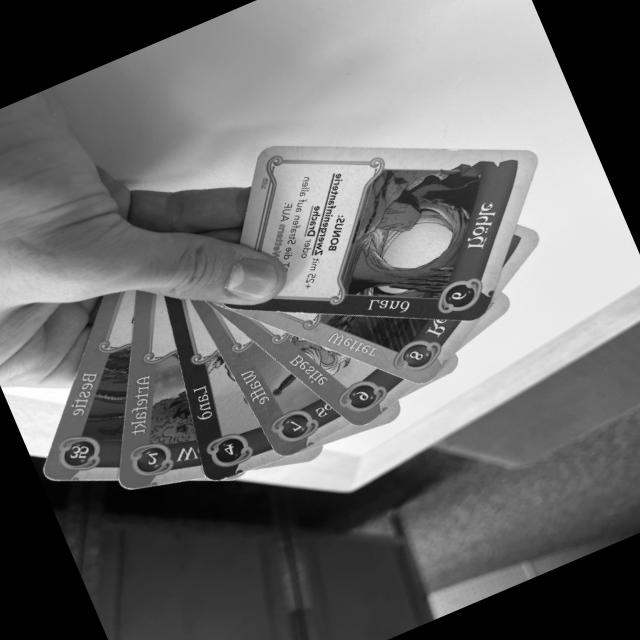Basilisk: (41, 288, 136, 480)
Earth Elemental: (163, 297, 279, 483)
Rainstorm: (230, 310, 480, 383)
Sword of Keth: (190, 301, 351, 460)
Underground Caverns: (224, 143, 542, 318)
Unicorn: (206, 301, 416, 427)
World Tree: (118, 289, 205, 491)
